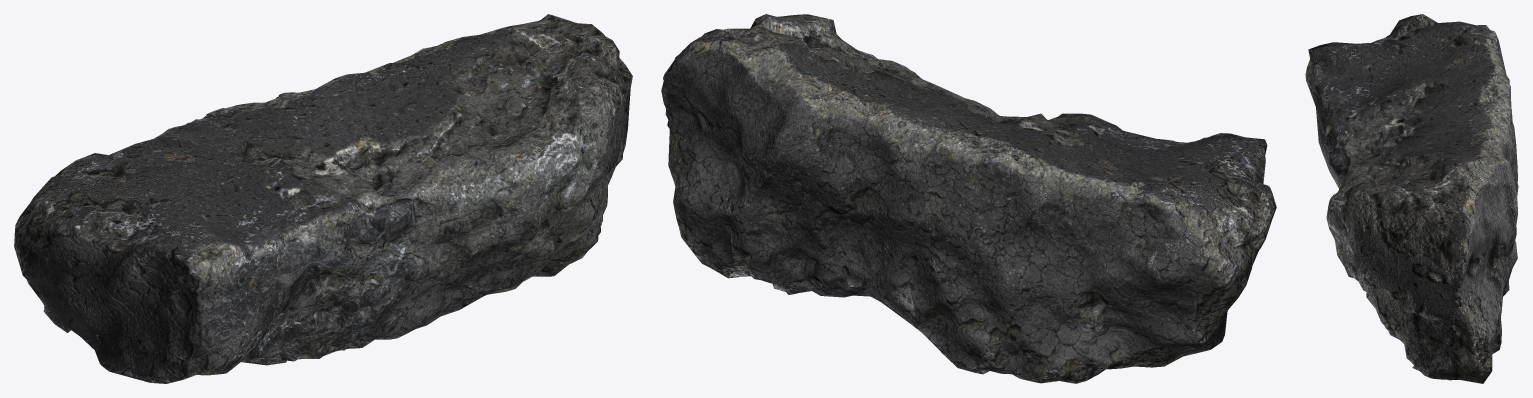
The model's file is space_rock.fbx.
The picture shows the model from 3 angles, left to right: view 1: azimuth 30°, elevation 25°; view 2: azimuth 150°, elevation 25°; view 3: azimuth 270°, elevation 25°; orthographic projection. The views are drawn at different scales.
Parts seen in each view (by area): view 1: default; view 2: default; view 3: default.
Part boxes in pixels (<box>): default: <box>14,14,632,383</box>; default: <box>661,14,1276,383</box>; default: <box>1305,14,1518,383</box>.
Bounding box in the file's own units: 7.91 × 3.32 × 2.83.
